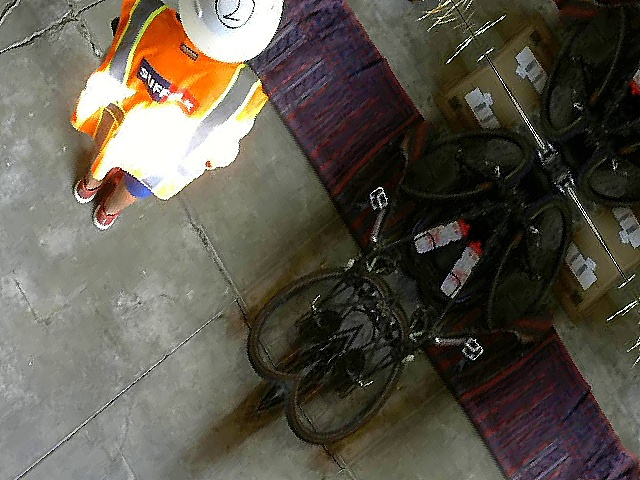two: (207, 0, 261, 36)
